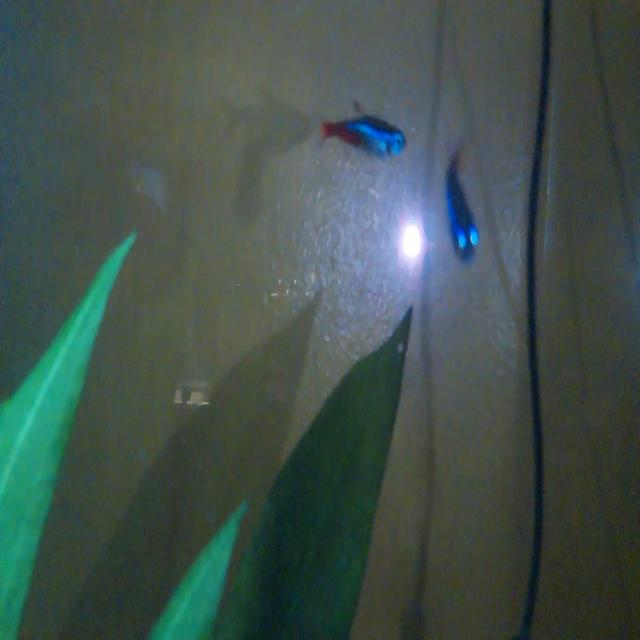fish: (324, 89, 409, 179), (432, 143, 485, 272)
